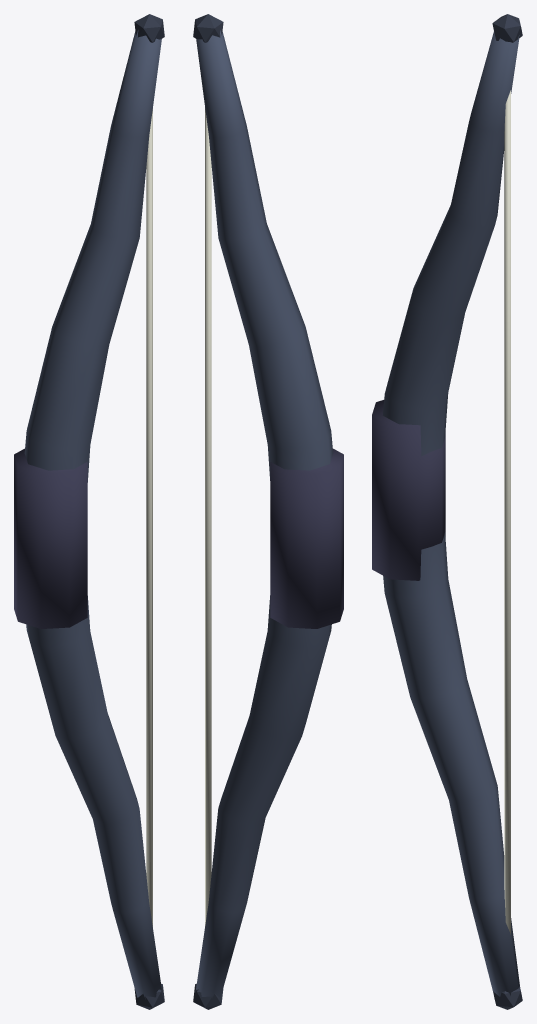
The model's file is lead_bow.glb.
The picture shows the model from 3 angles, left to right: view 1: azimuth 30°, elevation 25°; view 2: azimuth 150°, elevation 25°; view 3: azimuth 330°, elevation 25°; orthographic projection.
Visible parts, largest first — view 1: lead_bow_v0; view 2: lead_bow_v0; view 3: lead_bow_v0.
Part boxes in pixels (box(x1,y1,x2,y2)): lead_bow_v0: box(14, 14, 164, 1009); lead_bow_v0: box(193, 14, 343, 1009); lead_bow_v0: box(372, 14, 522, 1009).
Size of the model in its own units: 0.1761 by 1.16 by 0.08.
